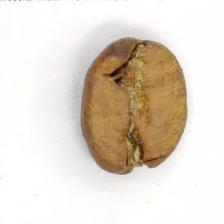NG: (106, 38, 161, 167)
